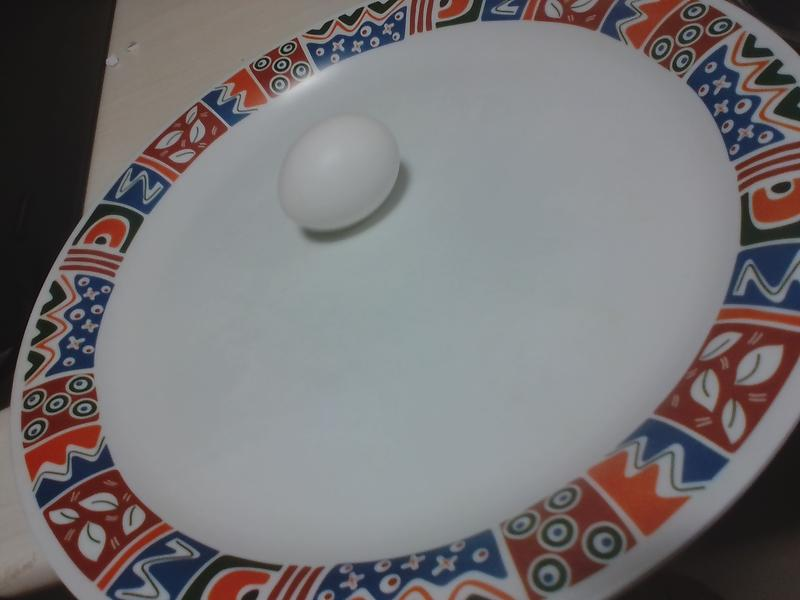egg: (277, 108, 401, 240)
